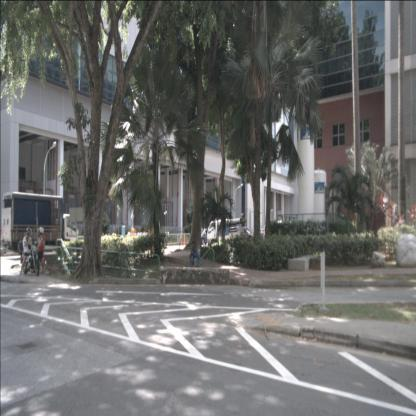cone: (184, 236, 188, 246), (180, 237, 184, 246)
